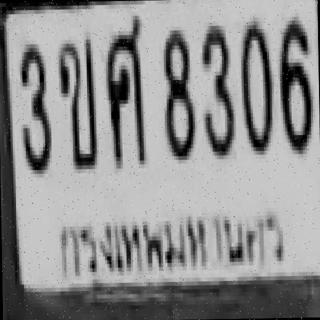A02: (56, 36, 97, 166)
A38: (102, 12, 144, 165)
N00: (238, 17, 273, 151)
N03: (200, 21, 234, 156), (17, 40, 50, 170)
N06: (277, 16, 311, 150)
N08: (161, 26, 193, 156)
P04: (52, 200, 288, 278)
